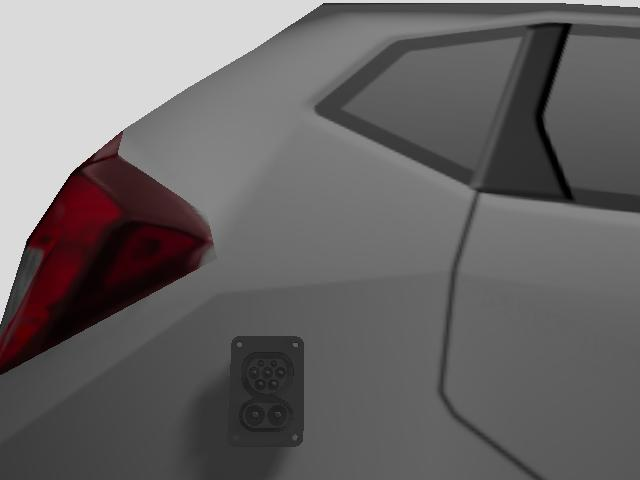EV-socket: (224, 336, 306, 449)
